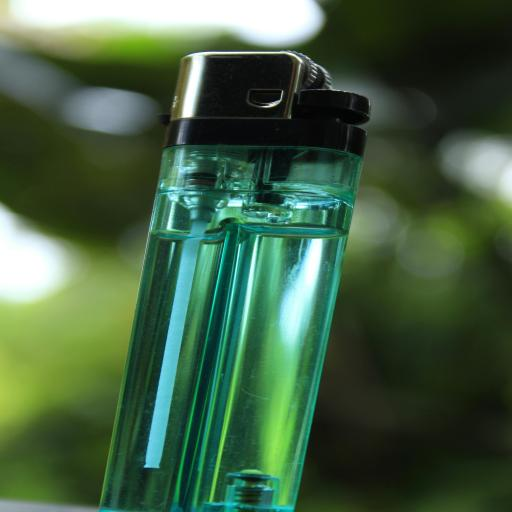lighter: (71, 31, 469, 512)
